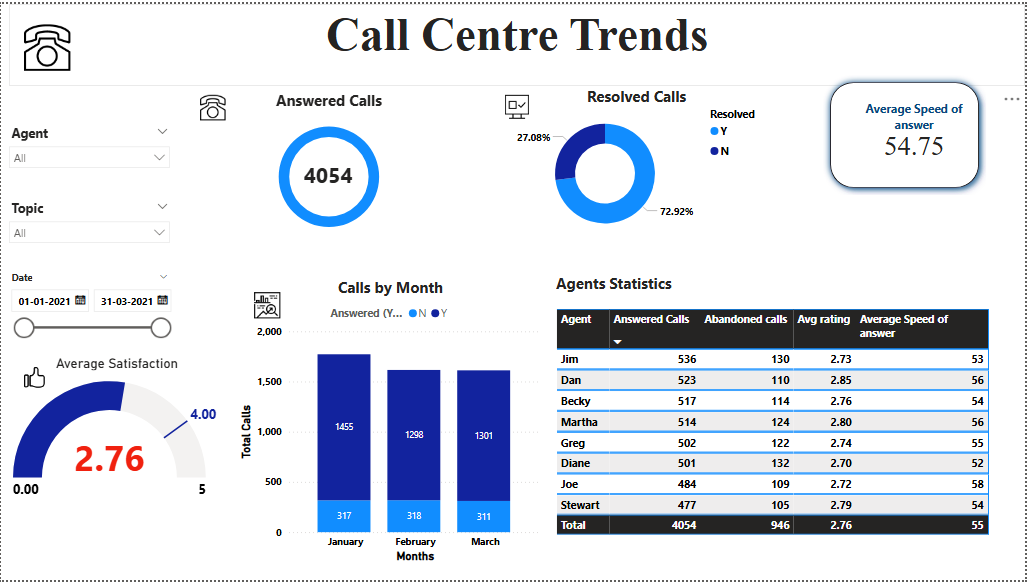

Layout of this report page (visuals, bound fields, positions):
{"tool":"powerbi","page":{"name":"Call Centre Trend Analysis","canvas":[1280,720],"ordinal":0},"visuals":[{"type":"textbox","box":[10,0,1270,102.5],"z":0},{"type":"slicer","fields":{"Values":["Sheet1.Date"]},"box":[0,328.7,220.7,91.2],"z":1000},{"type":"slicer","fields":{"Values":["Sheet1.Topic"]},"box":[0,238.7,220.7,70.8],"z":2000},{"type":"columnChart","title":"Calls by Month","fields":{"Category":["Sheet1.Date Hierarchy.Month Name"],"Y":["Sheet1.Answered (Y/N)"],"Series":["Sheet1.Answered (Y/N)"]},"box":[293.9,340.7,386.3,362.3],"z":3000},{"type":"shape","box":[1026.9,88.8,203.9,150],"z":4000},{"type":"card","title":"Average Speed of answer","fields":{"Values":["Sheet1.Speed of answer in seconds"]},"box":[1068.9,120,145.2,79.2],"z":5000},{"type":"donutChart","title":"Resolved Calls","fields":{"Category":["Sheet1.Resolved"],"Y":["Sheet1.Total Calls"]},"box":[619,102,351.5,197.9],"z":6000},{"type":"tableEx","fields":{"Values":["Sheet1.Agent","Sheet1.Answered Calls","Sheet1.Abandoned calls","Sheet1.Avg rating","Sheet1.Average Speed of answer"]},"box":[688.6,376.7,565,309.5],"z":7000},{"type":"gauge","title":"Average Satisfaction","fields":{"MinValue":["Sheet1.Min"],"MaxValue":["Sheet1.Max"],"Y":["Sheet1.Avg rating"]},"box":[9.6,439.1,269.9,197.9],"z":8000},{"type":"image","box":[24,7.2,68.4,94.8],"z":9000},{"type":"slicer","fields":{"Values":["Sheet1.Agent"]},"box":[0,145.2,220.7,70.8],"z":10000},{"type":"image","box":[24,448.7,36,36],"z":11000},{"type":"donutChart","fields":{"Y":["Sheet1.Answered Calls"]},"box":[243.5,108,332.3,191.9],"z":12000},{"type":"image","box":[243.5,108,42,43.2],"z":13000},{"type":"card","fields":{"Values":["Sheet1.Answered Calls"]},"box":[373.1,188.3,73.2,50.4],"z":14000},{"type":"image","box":[625,102,39.6,51.6],"z":15000},{"type":"image","box":[310.7,350.3,43.2,52.8],"z":15001},{"type":"textbox","box":[688.6,331.1,302.3,45.6],"z":15002}]}

Visuals, with their boxes in screenshot pixels (x1, y1, x2, y2), scaled from the page's 1280x720 canvas onto the 1028x584 screenshot:
textbox: bbox=(8, 0, 1027, 83)
slicer - Sheet1.Date: bbox=(0, 267, 177, 341)
slicer - Sheet1.Topic: bbox=(0, 194, 177, 251)
"Calls by Month" columnChart: bbox=(236, 276, 546, 570)
shape: bbox=(825, 72, 988, 194)
"Average Speed of answer" card: bbox=(858, 97, 975, 162)
"Resolved Calls" donutChart: bbox=(497, 83, 779, 243)
tableEx - Sheet1.Agent x Sheet1.Answered Calls: bbox=(553, 306, 1007, 557)
"Average Satisfaction" gauge: bbox=(8, 356, 224, 517)
image: bbox=(19, 6, 74, 83)
slicer - Sheet1.Agent: bbox=(0, 118, 177, 175)
image: bbox=(19, 364, 48, 393)
donutChart - Sheet1.Answered Calls: bbox=(196, 88, 462, 243)
image: bbox=(196, 88, 229, 123)
card - Sheet1.Answered Calls: bbox=(300, 153, 358, 194)
image: bbox=(502, 83, 534, 125)
image: bbox=(250, 284, 284, 327)
textbox: bbox=(553, 269, 796, 306)
